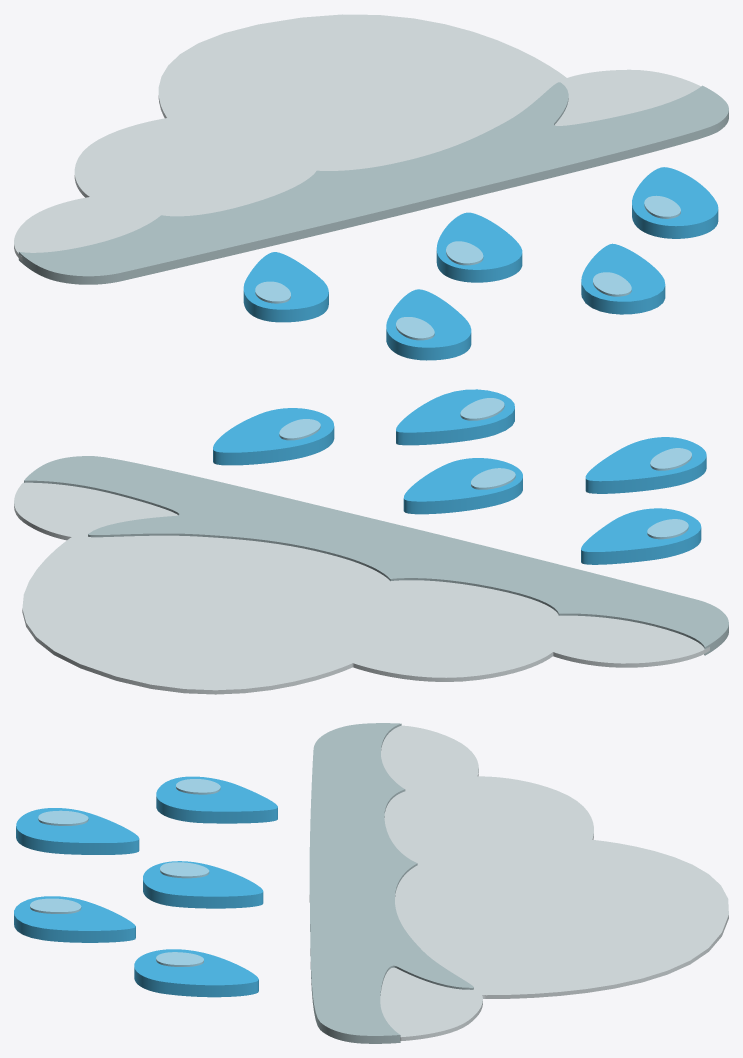
The model's file is emoji_u1f327.glb.
3 views of the same model, one above another, from view 1: azimuth 30°, elevation 25°; view 2: azimuth 150°, elevation 25°; view 3: azimuth 270°, elevation 25° (orthographic). The views are drawn at different scales.
Visible parts, largest first — view 1: emoji_u1f327; view 2: emoji_u1f327; view 3: emoji_u1f327.
Boxes of the visible parts, left/top/right/bottom form: emoji_u1f327: left=14, top=14, right=728, bottom=360; emoji_u1f327: left=14, top=389, right=728, bottom=694; emoji_u1f327: left=14, top=723, right=728, bottom=1043.
Bounding box in the file's own units: 0.0337 × 0.0008 × 0.0326.
